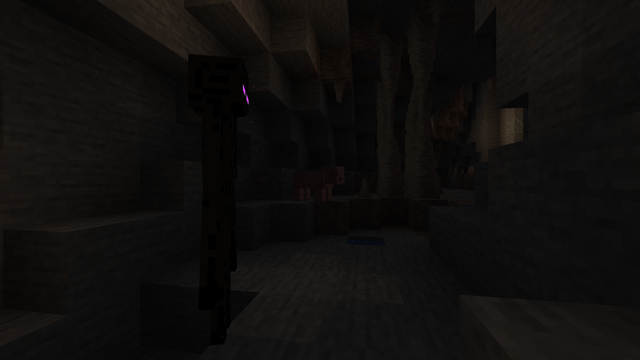cochons: (295, 169, 330, 201)
endermens: (175, 41, 258, 354)
